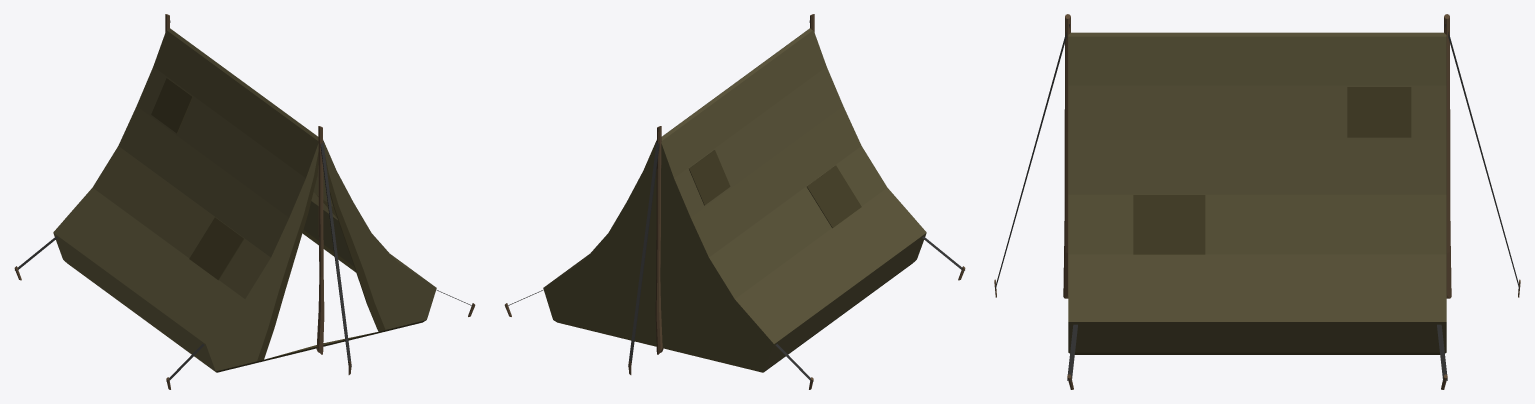
Rendered from tent_a_frame.glb.
The picture shows the model from 3 angles, left to right: view 1: azimuth 30°, elevation 25°; view 2: azimuth 150°, elevation 25°; view 3: azimuth 270°, elevation 25°; orthographic projection. The views are drawn at different scales.
Parts seen in each view (by area): view 1: Tent; view 2: Tent; view 3: Tent.
Part boxes in pixels (x1,y1,x2,y2): Tent: (14, 14, 475, 389); Tent: (504, 14, 965, 389); Tent: (994, 14, 1520, 389).
Bounding box in the file's own units: 14.58 × 10.32 × 17.36.
